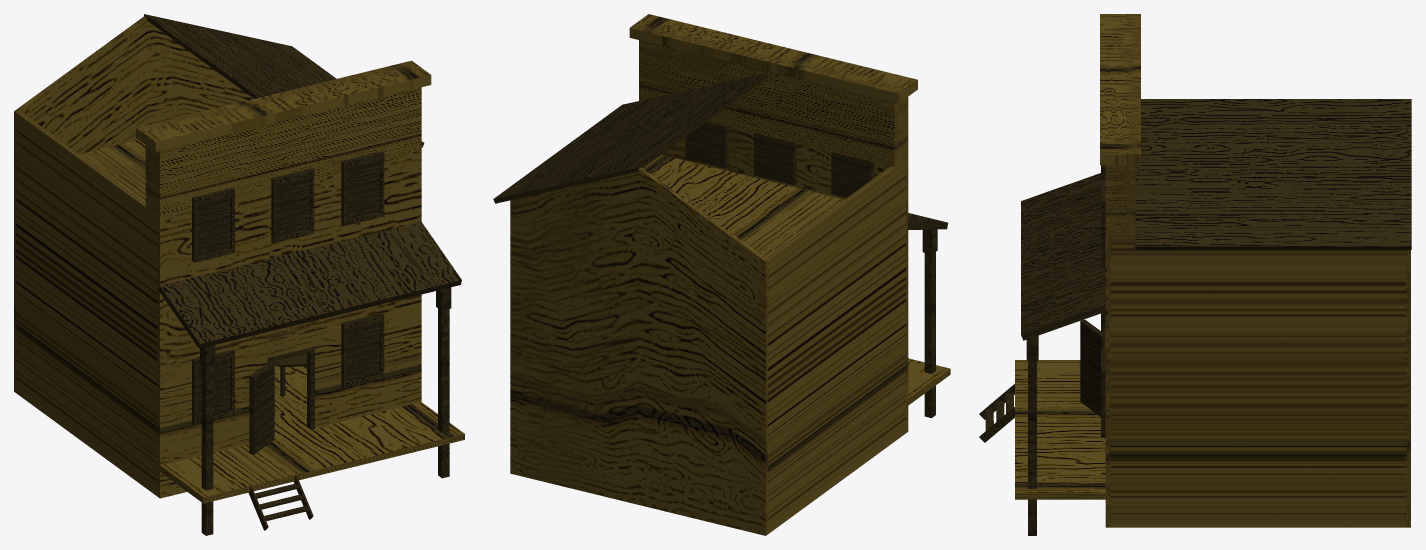
Rendered from BuildingWithInside2.fbx.
The picture shows the model from 3 angles, left to right: view 1: azimuth 30°, elevation 25°; view 2: azimuth 150°, elevation 25°; view 3: azimuth 270°, elevation 25°; orthographic projection. The views are drawn at different scales.
Visible parts, largest first — view 1: Cube.010; view 2: Cube.010; view 3: Cube.010.
Part boxes in pixels (x1=…): Cube.010: x1=14, y1=14, x2=464, y2=535; Cube.010: x1=493, y1=14, x2=950, y2=535; Cube.010: x1=979, y1=14, x2=1411, y2=535.
Bounding box in the file's own units: 1772 × 2208 × 2221.
15 materials, 15 textured.
